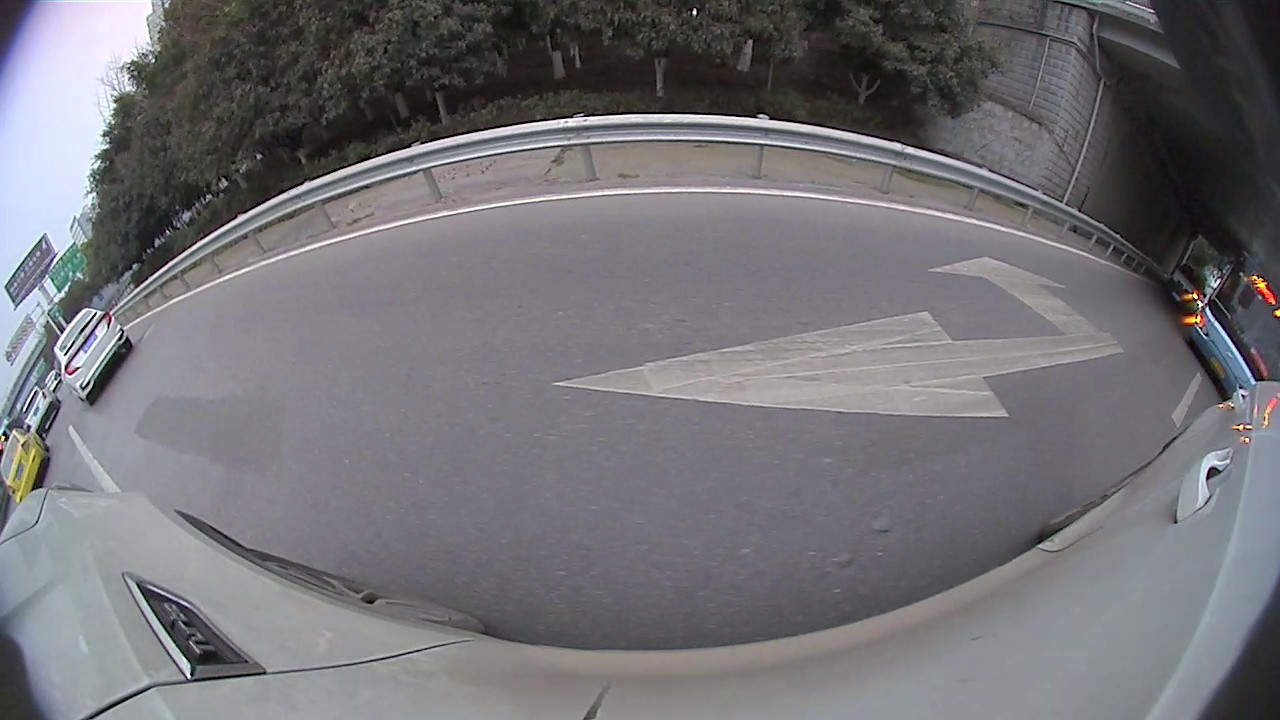bus: (1189, 243, 1279, 399)
car: (50, 303, 136, 403), (1, 426, 47, 503), (1166, 254, 1211, 308), (18, 381, 61, 436)
